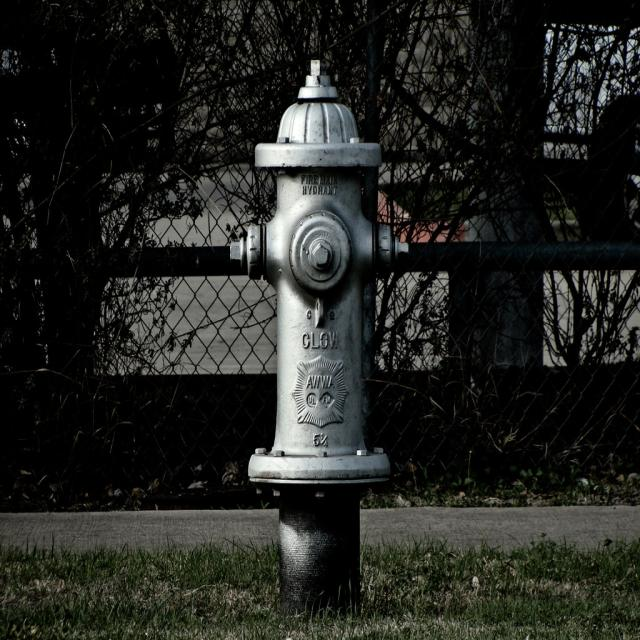fire_hydrant: (234, 60, 411, 618)
